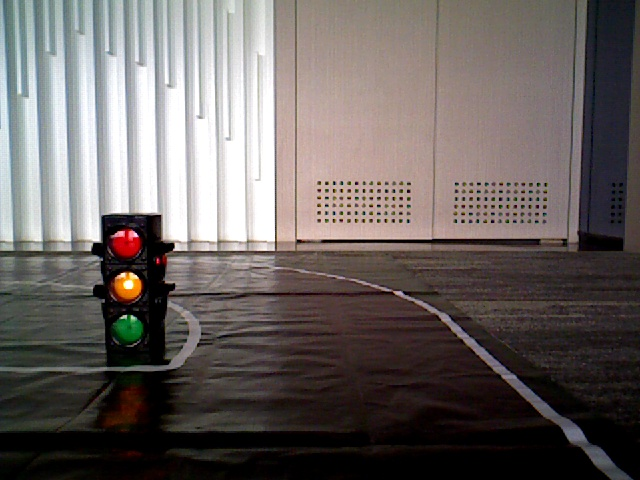yellow: (106, 219, 154, 346)
